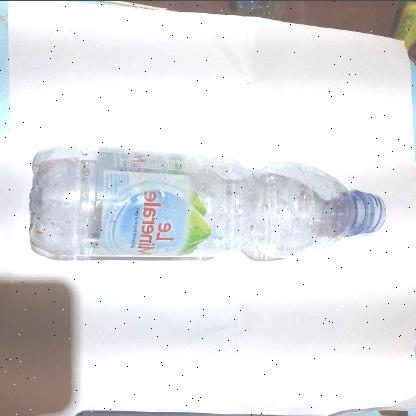Plastic Bottle: (30, 146, 388, 262)
